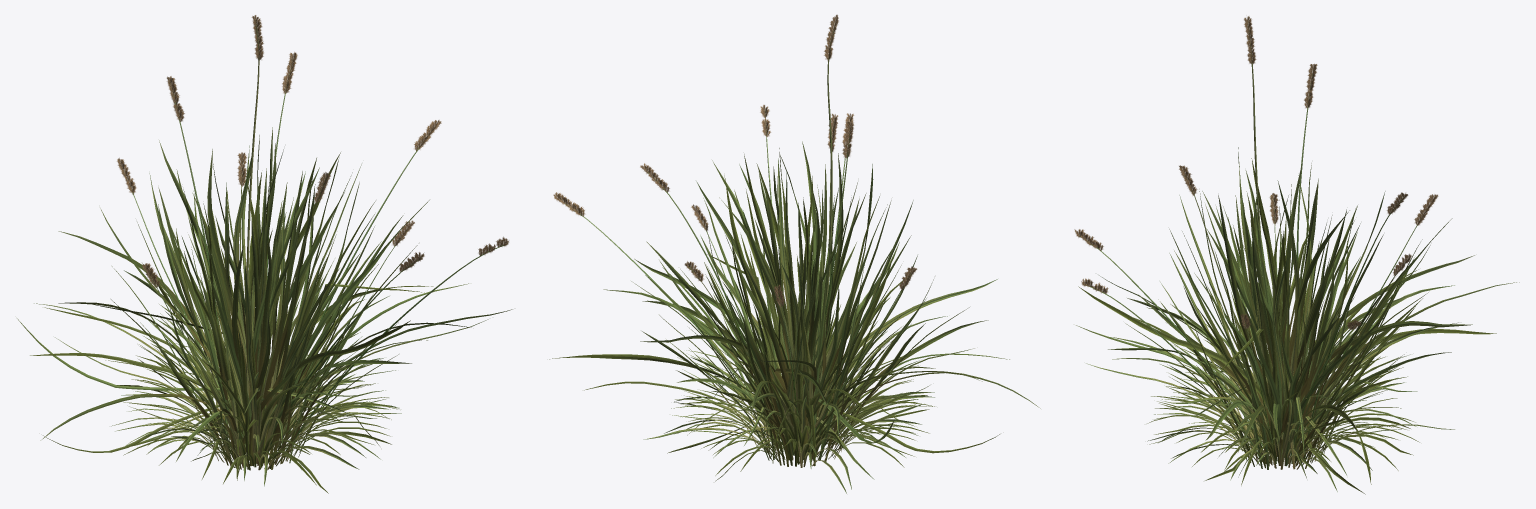
Rendered from Bushe_01.glb.
3 renders of one model, left to right at view 1: azimuth 30°, elevation 25°; view 2: azimuth 150°, elevation 25°; view 3: azimuth 270°, elevation 25°, orthographic. The views are drawn at different scales.
Visible parts, largest first — view 1: Grass_0; view 2: Grass_0; view 3: Grass_0.
Boxes of the visible parts, x1,y1,x2,y2 form: Grass_0: (17, 15, 512, 493); Grass_0: (549, 14, 1040, 493); Grass_0: (1074, 16, 1519, 494).
Bounding box in the file's own units: 0.6287 × 0.5928 × 0.5603.
7 materials, 7 textured.
